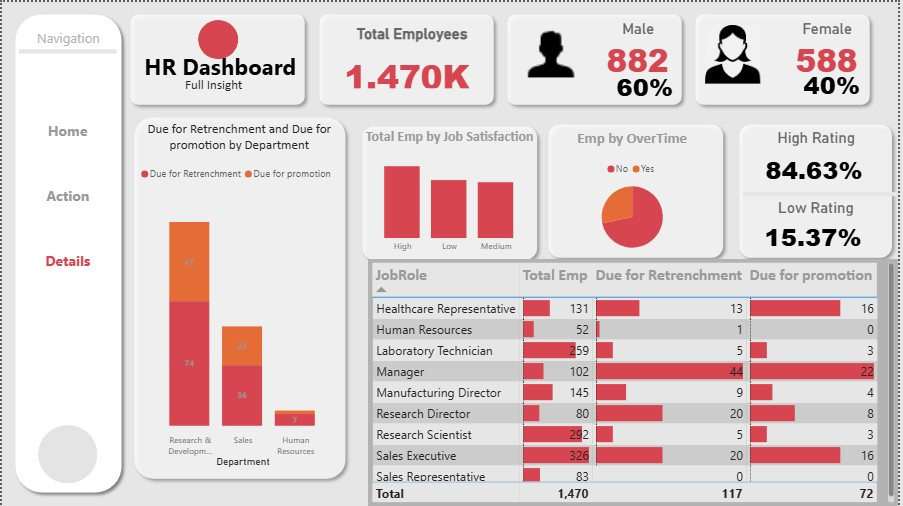

What the dashboard file says about the page in this screenshot:
{"tool":"powerbi","page":{"name":"Details","canvas":[1280,720],"ordinal":2},"visuals":[{"type":"shape","box":[10.1,8.6,169.9,701.3],"z":0},{"type":"shape","box":[174.8,8.6,267.1,147.1],"z":1000},{"type":"shape","box":[443.7,8.6,267.1,147.1],"z":2000},{"type":"shape","box":[712.5,8.6,267.1,147.1],"z":3000},{"type":"shape","box":[981.4,8.6,267.1,147.1],"z":4000},{"type":"textbox","box":[180.7,64.3,264.3,54.3],"z":5000},{"type":"textbox","box":[193.2,101.4,219.1,54.3],"z":6000},{"type":"shape","box":[279.5,25,57.6,55.9],"z":7000},{"type":"cardVisual","title":"Total Employees","fields":{"Data":["All Measures.Total Empp"]},"box":[459.4,33.1,252,108],"z":8000},{"type":"cardVisual","title":"Male","fields":{"Data":["All Measures.Male"]},"box":[845.7,25.7,121.4,92.9],"z":9000},{"type":"cardVisual","title":"Female","fields":{"Data":["All Measures.Female"]},"box":[1115.7,25.7,121.4,92.9],"z":10000},{"type":"cardVisual","title":"Male","fields":{"Data":["All Measures.% Female"]},"box":[1127.1,72.9,121.4,92.9],"z":11000},{"type":"image","box":[736.3,26.2,95,90.8],"z":12000},{"type":"image","box":[1004.7,33,79.8,84],"z":13000},{"type":"shape","box":[228.6,388.6,300,80],"z":14000},{"type":"cardVisual","title":"Male","fields":{"Data":["All Measures.% Male"]},"box":[860,75.7,121.4,92.9],"z":15000},{"type":"shape","box":[180,155.5,319.7,534.2],"z":16000},{"type":"columnChart","fields":{"Category":["HR Analytics Data.Department"],"Y":["All Measures.will be retrenched","All Measures.Due for promotion"]},"box":[193,168.5,292.3,501.1],"z":17000},{"type":"shape","box":[505.4,168.5,267.8,208.8],"z":18000},{"type":"shape","box":[771.8,165.6,267.8,208.8],"z":19000},{"type":"shape","box":[1044,165.6,236.2,208.8],"z":20000},{"type":"columnChart","fields":{"Category":["HR Analytics Data.Job Satisfaction"],"Y":["All Measures.Total Emp"]},"box":[514.1,180,250.6,187.2],"z":21000},{"type":"pieChart","title":"Emp by OverTime","fields":{"Category":["HR Analytics Data.OverTime"],"Y":["All Measures.Total Emp"]},"box":[773.3,181.4,254.9,185.8],"z":22000},{"type":"tableEx","fields":{"Values":["HR Analytics Data.JobRole","All Measures.Total Emp","All Measures.will be retrenched","All Measures.Due for promotion"]},"box":[522.7,367.2,757.4,352.8],"z":23000},{"type":"cardVisual","title":"High Rating","fields":{"Data":["All Measures.% High rating"]},"box":[1072.8,181.4,175.7,93.6],"z":24000},{"type":"shape","box":[1058.4,243.4,221.8,63.4],"z":25000},{"type":"cardVisual","title":"Low Rating","fields":{"Data":["All Measures.& low rating"]},"box":[1071.4,280.8,177.1,86.4],"z":26000},{"type":"textbox","box":[9.5,33.1,169.5,35.5],"z":27000},{"type":"shape","box":[51.8,604.8,85,83.5],"z":28000},{"type":"shape","box":[24.6,64.2,139.6,12.7],"z":29000},{"type":"pageNavigator","box":[24.5,141.1,139.7,269.3],"z":30000}]}

Visuals, with their boxes in screenshot pixels (x1, y1, x2, y2), scaled from the page's 1280x720 canvas onto the 903x506 screenshot:
shape: (left=7, top=6, right=127, bottom=499)
shape: (left=123, top=6, right=312, bottom=109)
shape: (left=313, top=6, right=501, bottom=109)
shape: (left=503, top=6, right=691, bottom=109)
shape: (left=692, top=6, right=881, bottom=109)
textbox: (left=127, top=45, right=314, bottom=83)
textbox: (left=136, top=71, right=291, bottom=109)
shape: (left=197, top=18, right=238, bottom=57)
"Total Employees" cardVisual: (left=324, top=23, right=502, bottom=99)
"Male" cardVisual: (left=597, top=18, right=682, bottom=83)
"Female" cardVisual: (left=787, top=18, right=873, bottom=83)
"Male" cardVisual: (left=795, top=51, right=881, bottom=117)
image: (left=519, top=18, right=586, bottom=82)
image: (left=709, top=23, right=765, bottom=82)
shape: (left=161, top=273, right=373, bottom=329)
"Male" cardVisual: (left=607, top=53, right=692, bottom=118)
shape: (left=127, top=109, right=353, bottom=485)
columnChart - HR Analytics Data.Department x All Measures.will be retrenched: (left=136, top=118, right=342, bottom=471)
shape: (left=357, top=118, right=545, bottom=265)
shape: (left=544, top=116, right=733, bottom=263)
shape: (left=737, top=116, right=902, bottom=263)
columnChart - HR Analytics Data.Job Satisfaction x All Measures.Total Emp: (left=363, top=126, right=539, bottom=258)
"Emp by OverTime" pieChart: (left=546, top=127, right=725, bottom=258)
tableEx - HR Analytics Data.JobRole x All Measures.Total Emp: (left=369, top=258, right=902, bottom=505)
"High Rating" cardVisual: (left=757, top=127, right=881, bottom=193)
shape: (left=747, top=171, right=902, bottom=216)
"Low Rating" cardVisual: (left=756, top=197, right=881, bottom=258)
textbox: (left=7, top=23, right=126, bottom=48)
shape: (left=37, top=425, right=97, bottom=484)
shape: (left=17, top=45, right=116, bottom=54)
pageNavigator: (left=17, top=99, right=116, bottom=288)
